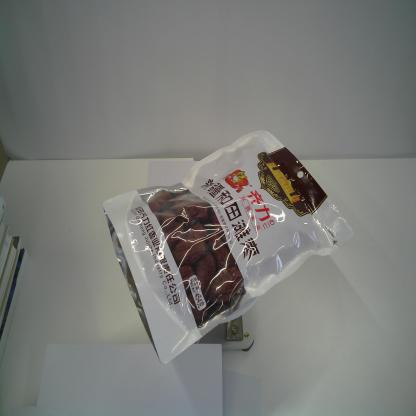Dried Food: (100, 126, 356, 367)
